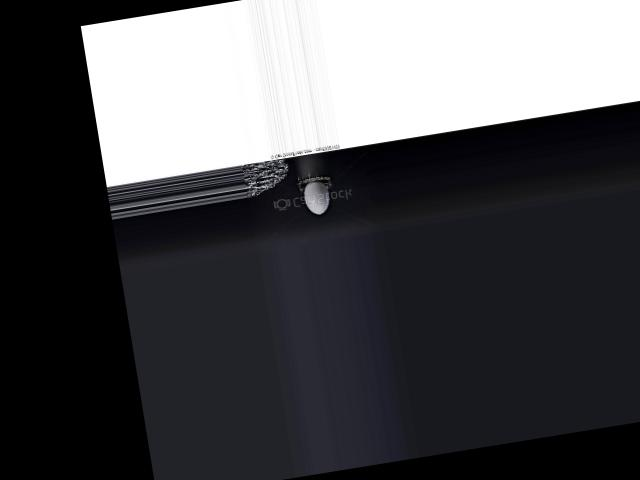egg: (302, 178, 332, 215)
